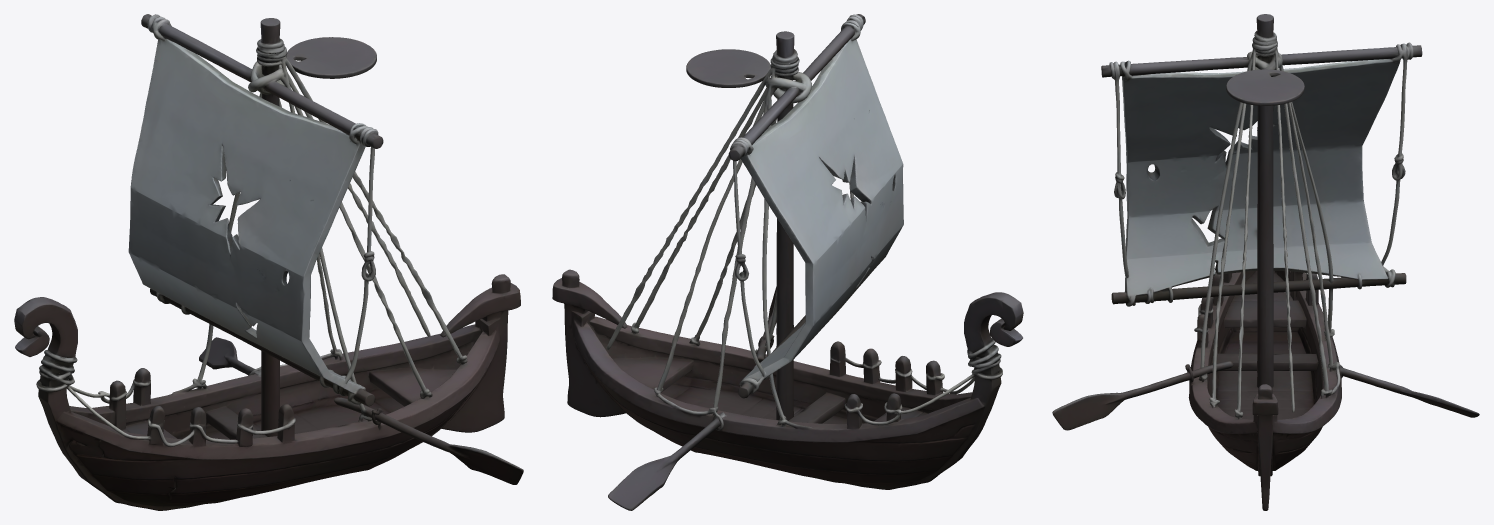
The model's file is 50%_ship.fbx.
3 views of the same model, side by side, from view 1: azimuth 30°, elevation 25°; view 2: azimuth 150°, elevation 25°; view 3: azimuth 270°, elevation 25° (orthographic). The views are drawn at different scales.
Visible parts, largest first — view 1: tripo_node_2b2acff2-8737-4143-9626-7a9249623dcf; view 2: tripo_node_2b2acff2-8737-4143-9626-7a9249623dcf; view 3: tripo_node_2b2acff2-8737-4143-9626-7a9249623dcf.
Part boxes in pixels (x1,y1,x2,y2): tripo_node_2b2acff2-8737-4143-9626-7a9249623dcf: (14,14,523,510); tripo_node_2b2acff2-8737-4143-9626-7a9249623dcf: (552,14,1023,510); tripo_node_2b2acff2-8737-4143-9626-7a9249623dcf: (1052,14,1479,510).
Size of the model in its own units: 1 by 0.8877 by 0.8509.
